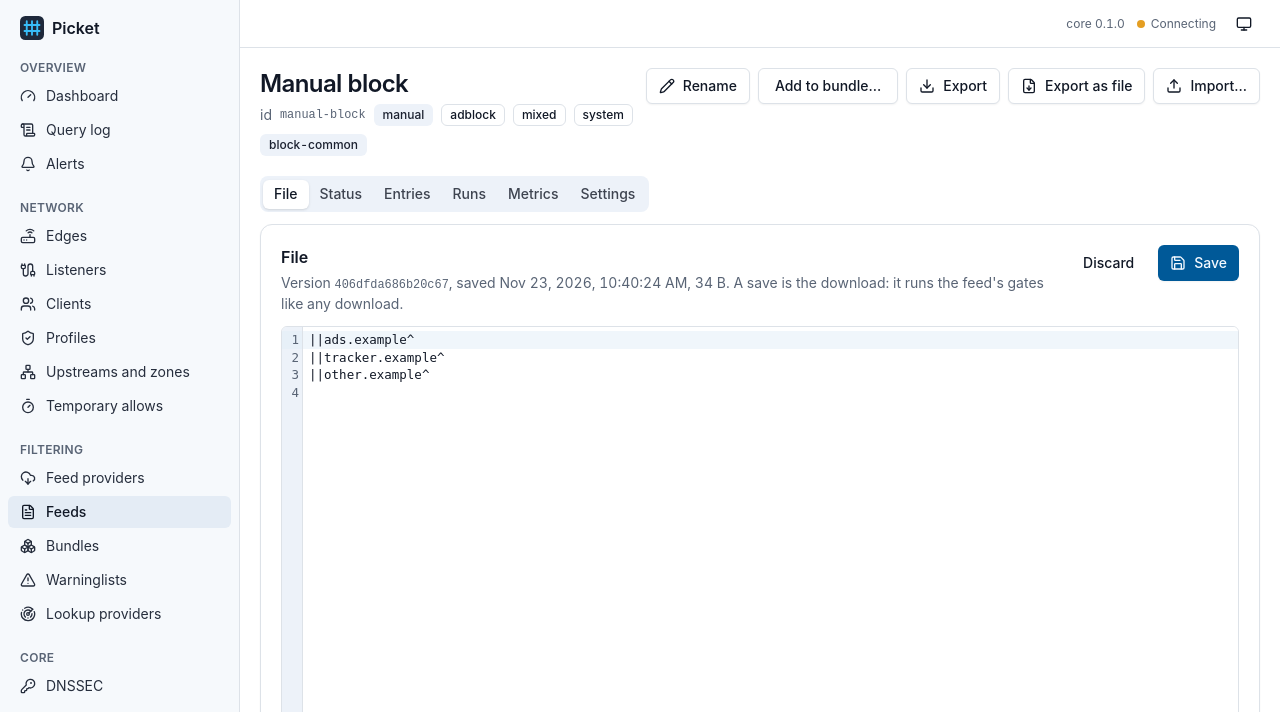
it: manual feed editor › explains a stale save (409) and offers a reload
Click the button "Save": (1199, 263) [1158, 245, 1239, 281]
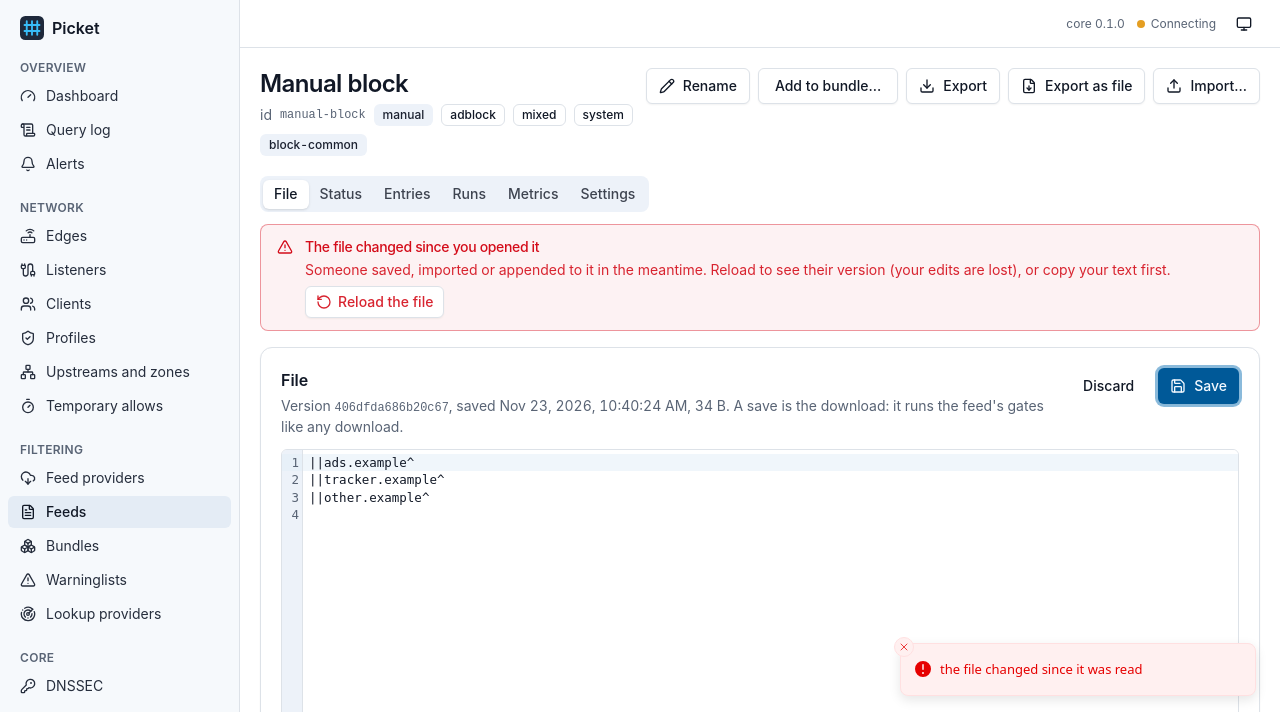
Result: the text "The file changed since you opened it" is shown at [305, 238, 539, 255]
Result: the button "Reload the file" is shown at [305, 286, 444, 318]
